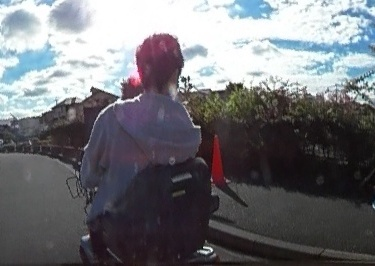person: (82, 33, 196, 248)
